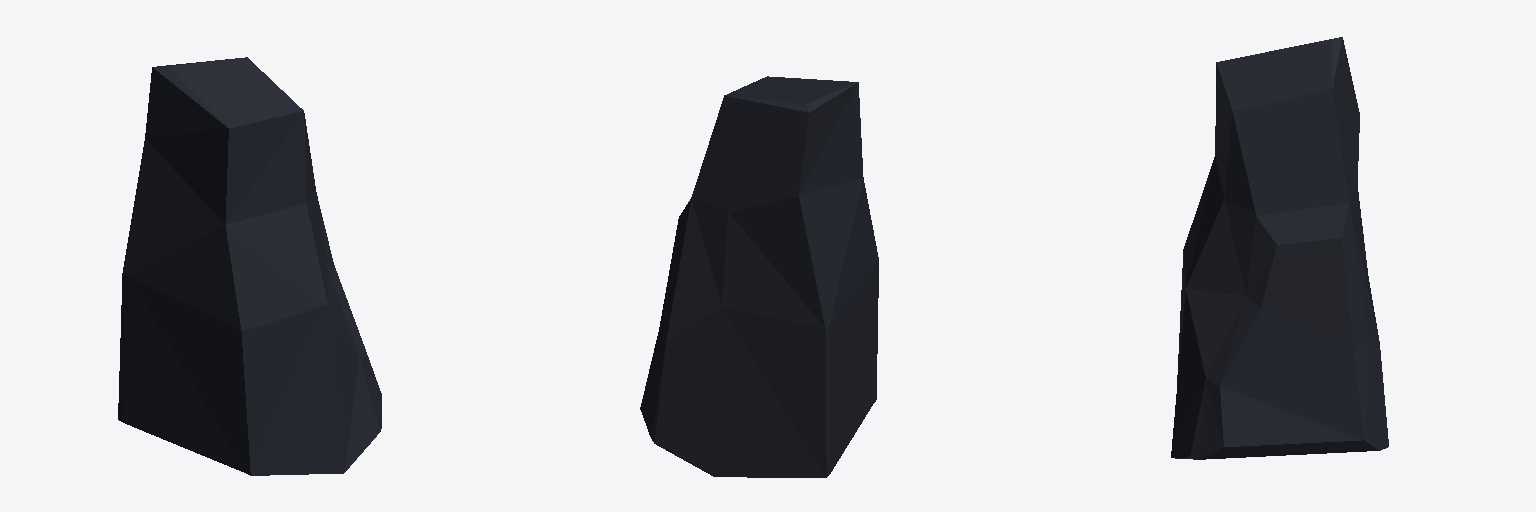
File: Rock_1_Cube.obj
3 views of the same model, side by side, from view 1: azimuth 30°, elevation 25°; view 2: azimuth 150°, elevation 25°; view 3: azimuth 270°, elevation 25° (orthographic).
Parts seen in each view (by area): view 1: Rock_1_Cube.018; view 2: Rock_1_Cube.018; view 3: Rock_1_Cube.018.
Part boxes in pixels (x1,y1,x2,y2): Rock_1_Cube.018: (118,57,381,475); Rock_1_Cube.018: (640,76,878,477); Rock_1_Cube.018: (1171,37,1388,459).
Bounding box in the file's own units: 0.4853 × 0.8778 × 0.4667.